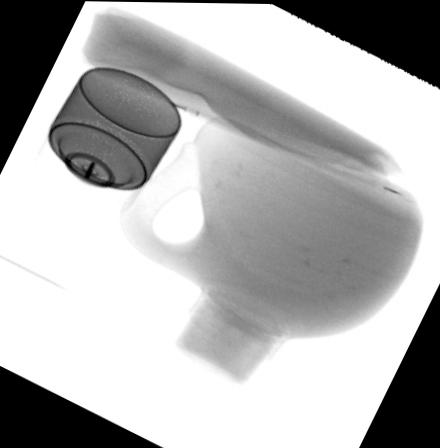Sprayer: (32, 65, 184, 219)
